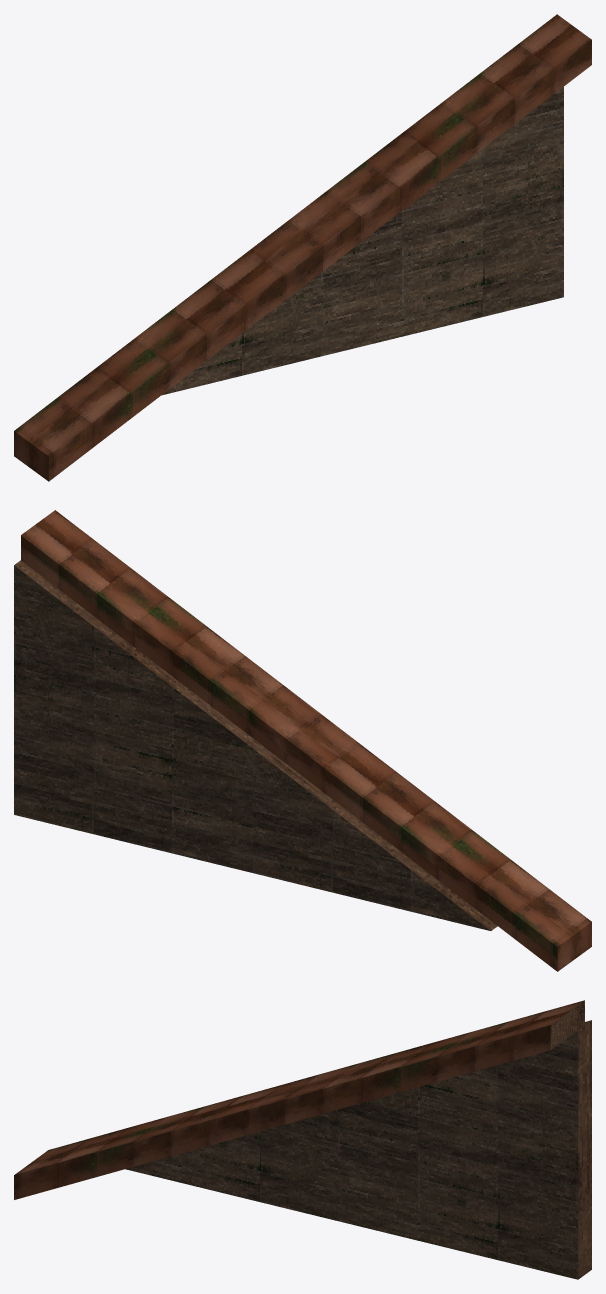
Rendered from roof_03_R.glb.
3 renders of one model, top to bottom at view 1: azimuth 30°, elevation 25°; view 2: azimuth 150°, elevation 25°; view 3: azimuth 330°, elevation 25°, orthographic.
Visible parts, largest first — view 1: roof_03_R2; view 2: roof_03_R2; view 3: roof_03_R2.
Boxes of the visible parts, bbox=[...] form: roof_03_R2: bbox=[14, 14, 591, 481]; roof_03_R2: bbox=[14, 510, 591, 971]; roof_03_R2: bbox=[14, 1000, 591, 1279].
Size of the model in its own units: 4.5 by 2.45 by 0.6.
Materials: 1 (1 with a texture image).
